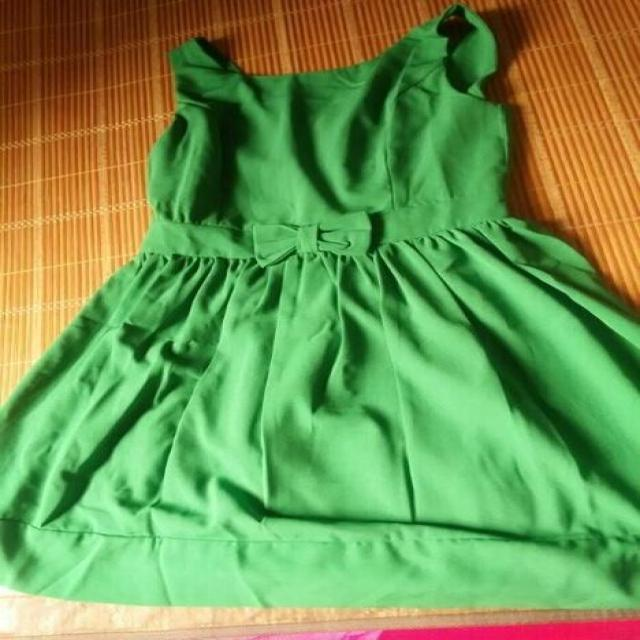short-sleeve-dress: (72, 26, 640, 598)
